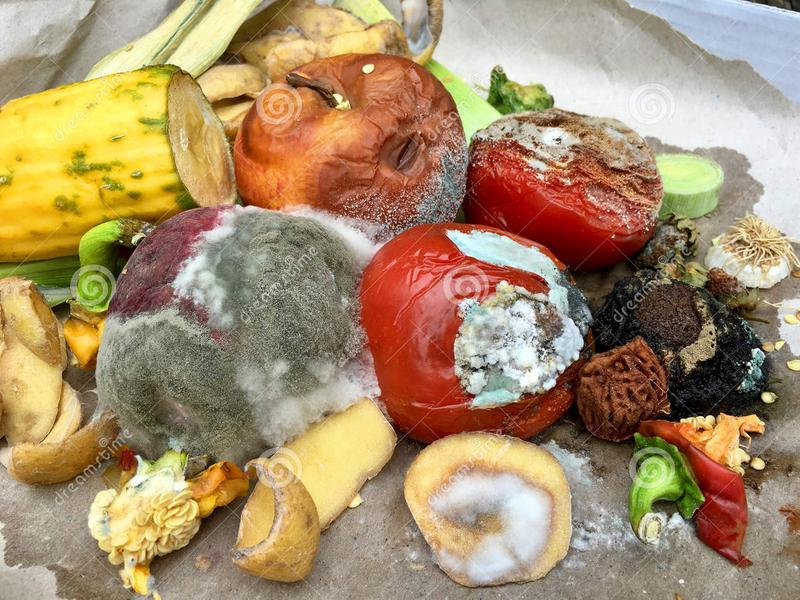vegetation: (1, 5, 797, 598)
